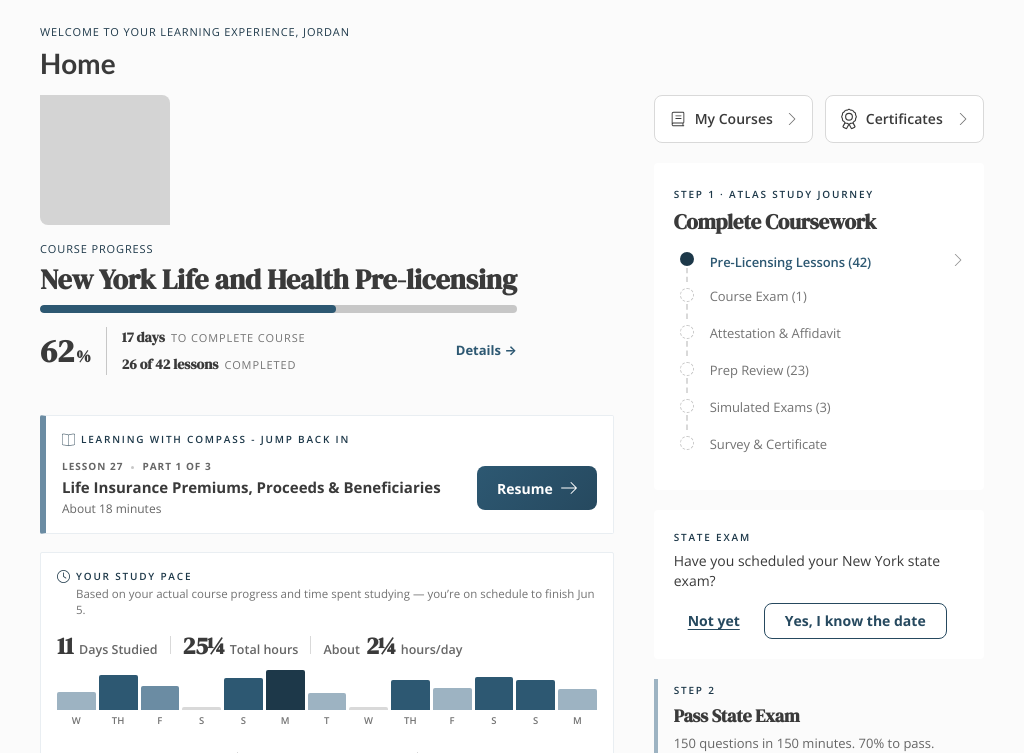
Scenario: the Compass player takes the whole window › drops the dashboard rail and the content column
What coordinates should you click on to do the following:
click the button "Resume"
I would click on:
 (537, 488)
Its box is [477,466,597,510].
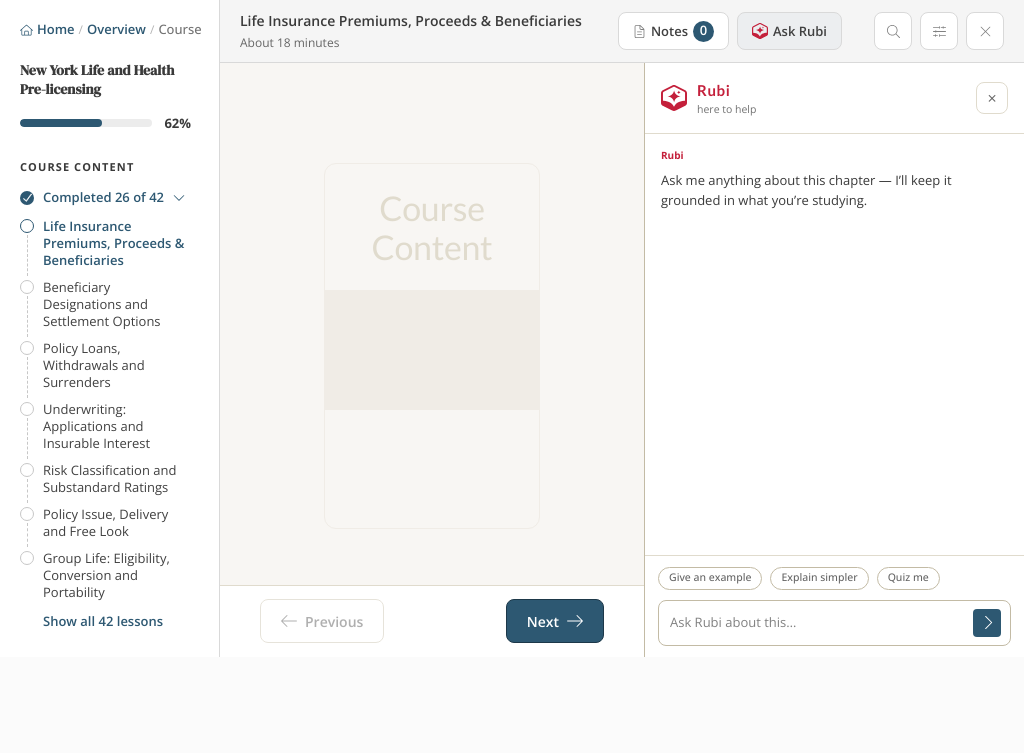
Now the element named "Course contents" is shown, box [0,0,220,656]
